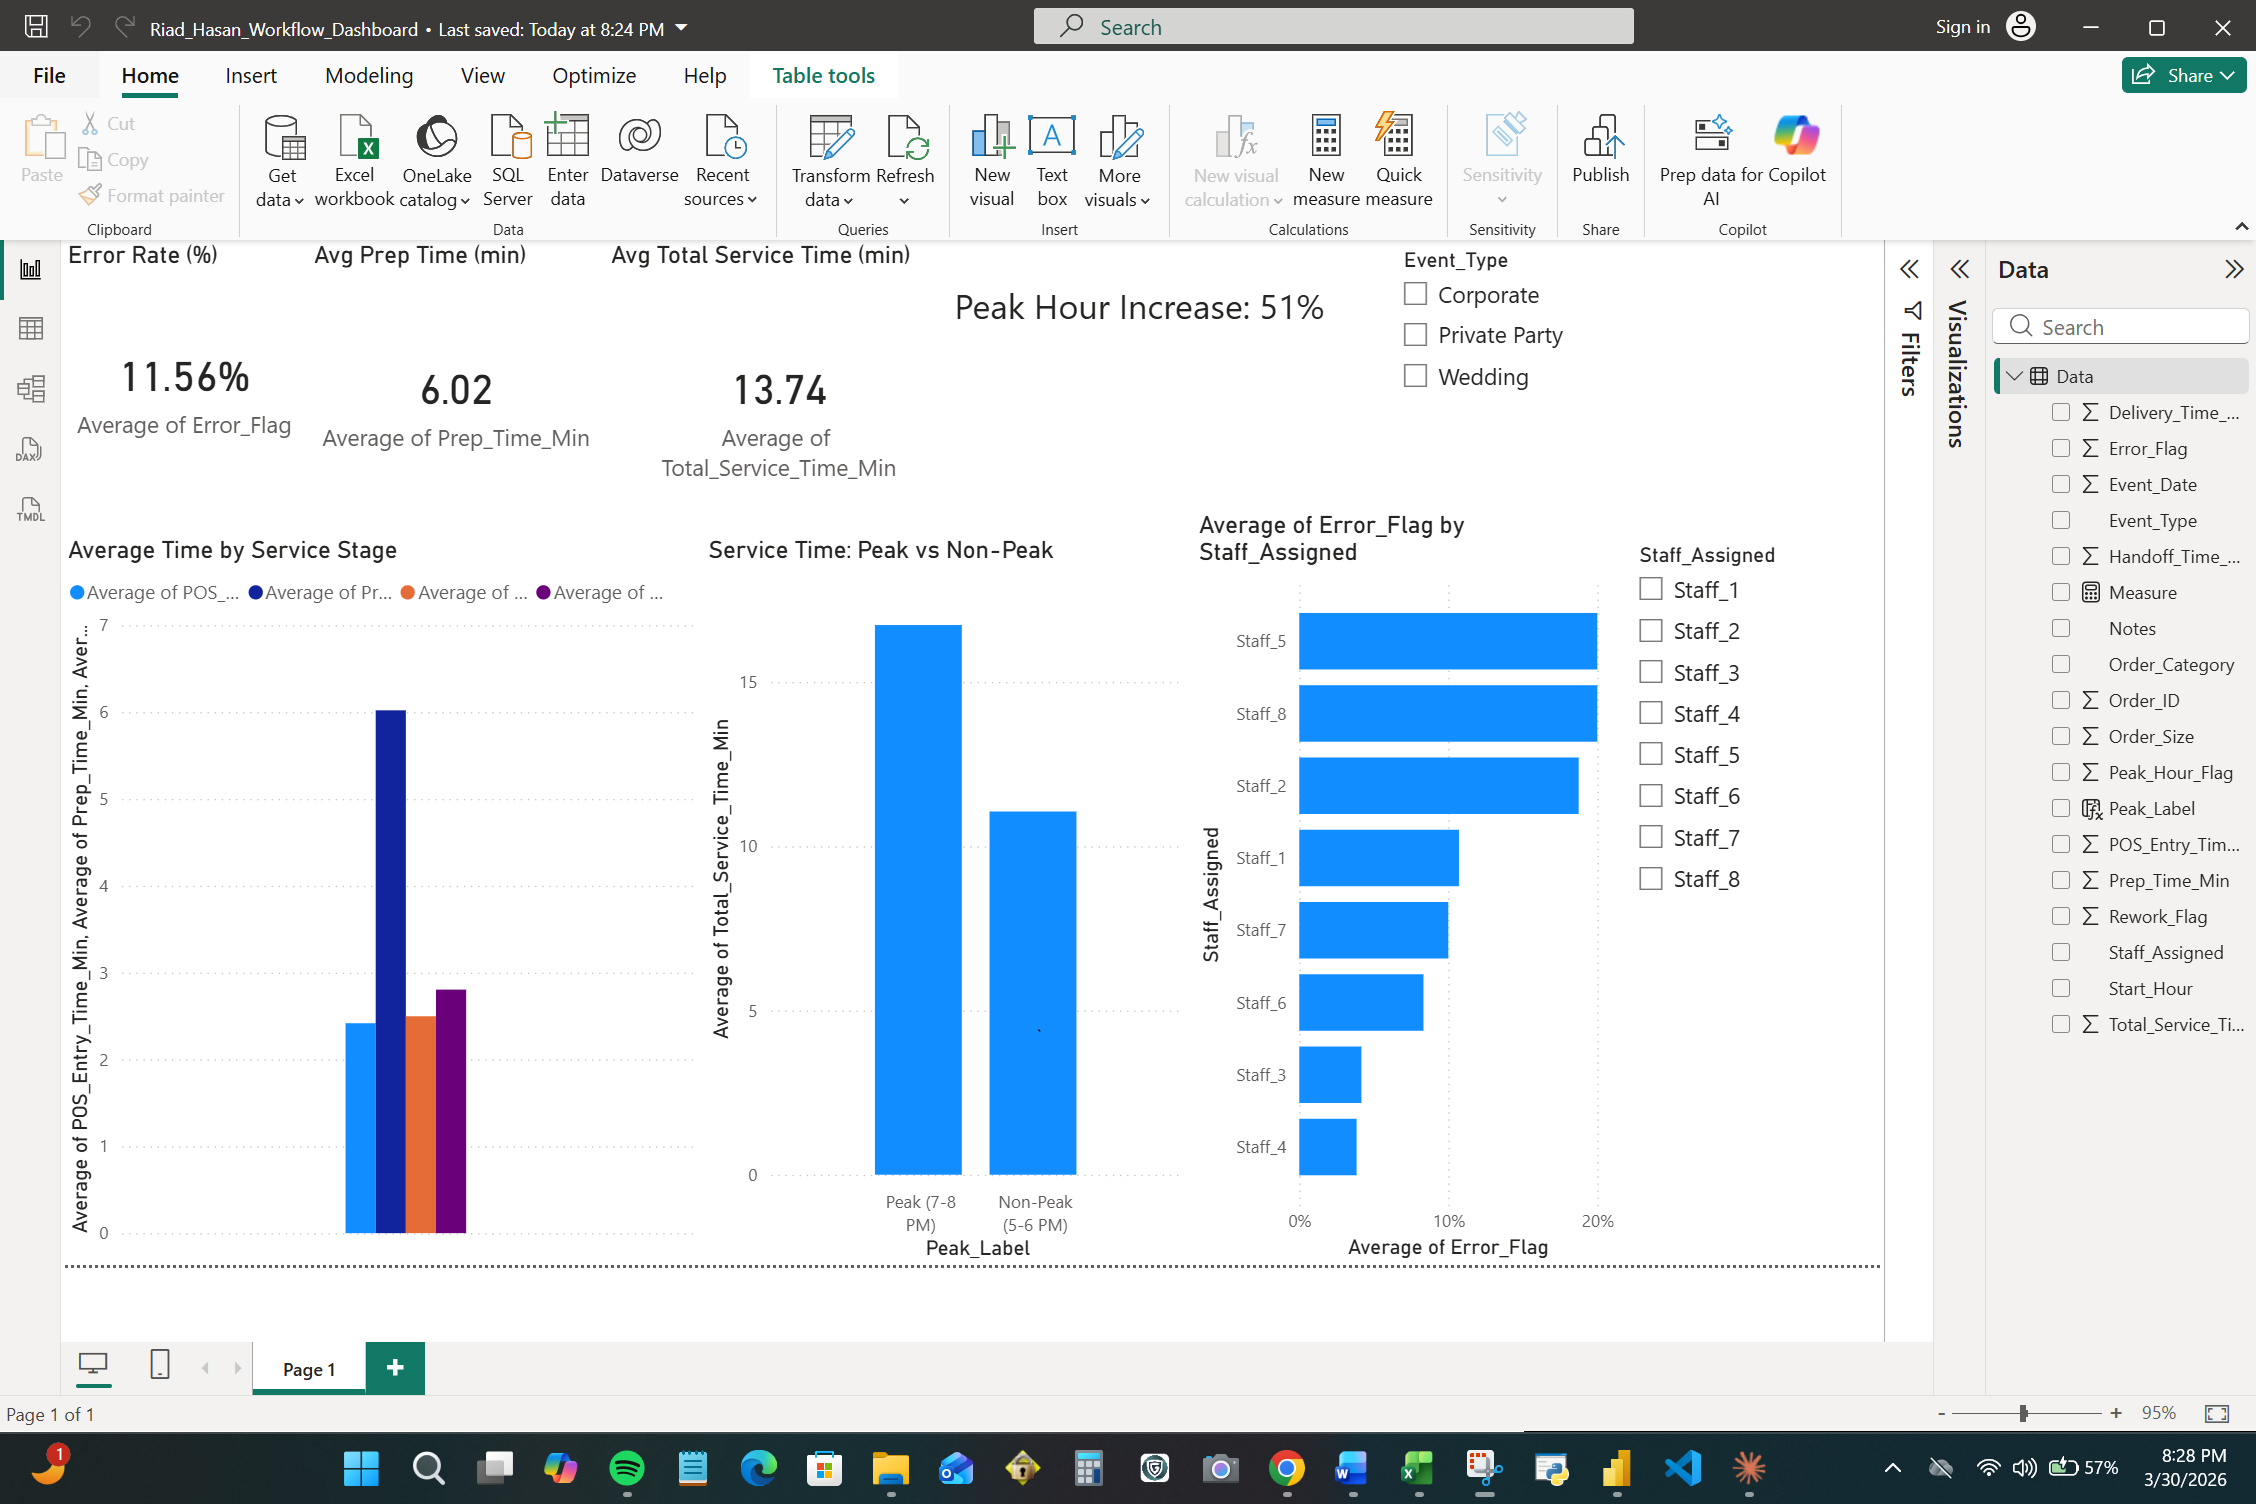

The dashboard page shown, as its layout file describes it:
{"tool":"powerbi","page":{"name":"Page 1","canvas":[1280,720],"ordinal":0},"visuals":[{"type":"card","title":"Error Rate (%)","fields":{"Values":["Avg(Data.Error_Flag)"]},"box":[0,0,172.5,190],"z":0},{"type":"card","title":" Avg Prep Time (min)","fields":{"Values":["Avg(Data.Prep_Time_Min)"]},"box":[172.5,0,208.8,207.5],"z":1000},{"type":"card","title":"Avg Total Service Time (min)","fields":{"Values":["Avg(Data.Total_Service_Time_Min)"]},"box":[381.2,0,245,207.5],"z":2000},{"type":"textbox","box":[622.5,23.8,286.2,93.8],"z":3000},{"type":"clusteredBarChart","fields":{"Category":["Data.Staff_Assigned"],"Y":["Avg(Data.Error_Flag)"]},"box":[793.8,190,301.2,530],"z":4000},{"type":"slicer","fields":{"Values":["Data.Event_Type"]},"box":[930,0,350,180],"z":5000},{"type":"slicer","fields":{"Values":["Data.Staff_Assigned"]},"box":[1095,208,185,512],"z":6000},{"type":"clusteredColumnChart","title":"Service Time: Peak vs Non-Peak","fields":{"Category":["Data.Peak_Label"],"Y":["Avg(Data.Total_Service_Time_Min)"]},"box":[450,207.5,343.8,512.5],"z":8000},{"type":"clusteredColumnChart","title":"Average Time by Service Stage","fields":{"Y":["Avg(Data.POS_Entry_Time_Min)","Avg(Data.Prep_Time_Min)","Avg(Data.Handoff_Time_Min)","Avg(Data.Delivery_Time_Min)"]},"box":[0,207.8,450.3,503.5],"z":8001}]}

Visuals, with their boxes on the page's 1280x720 design canvas (x1, y1, x2, y2). These are canvas units, not pixel positions in the 2256x1504 screenshot, which may show the page scaled, cropped or inside an application window:
"Error Rate (%)" card: (0,0,172,190)
" Avg Prep Time (min)" card: (172,0,381,208)
"Avg Total Service Time (min)" card: (381,0,626,208)
textbox: (622,24,909,118)
clusteredBarChart - Data.Staff_Assigned x Avg(Data.Error_Flag): (794,190,1095,720)
slicer - Data.Event_Type: (930,0,1280,180)
slicer - Data.Staff_Assigned: (1095,208,1280,720)
"Service Time: Peak vs Non-Peak" clusteredColumnChart: (450,208,794,720)
"Average Time by Service Stage" clusteredColumnChart: (0,208,450,711)
